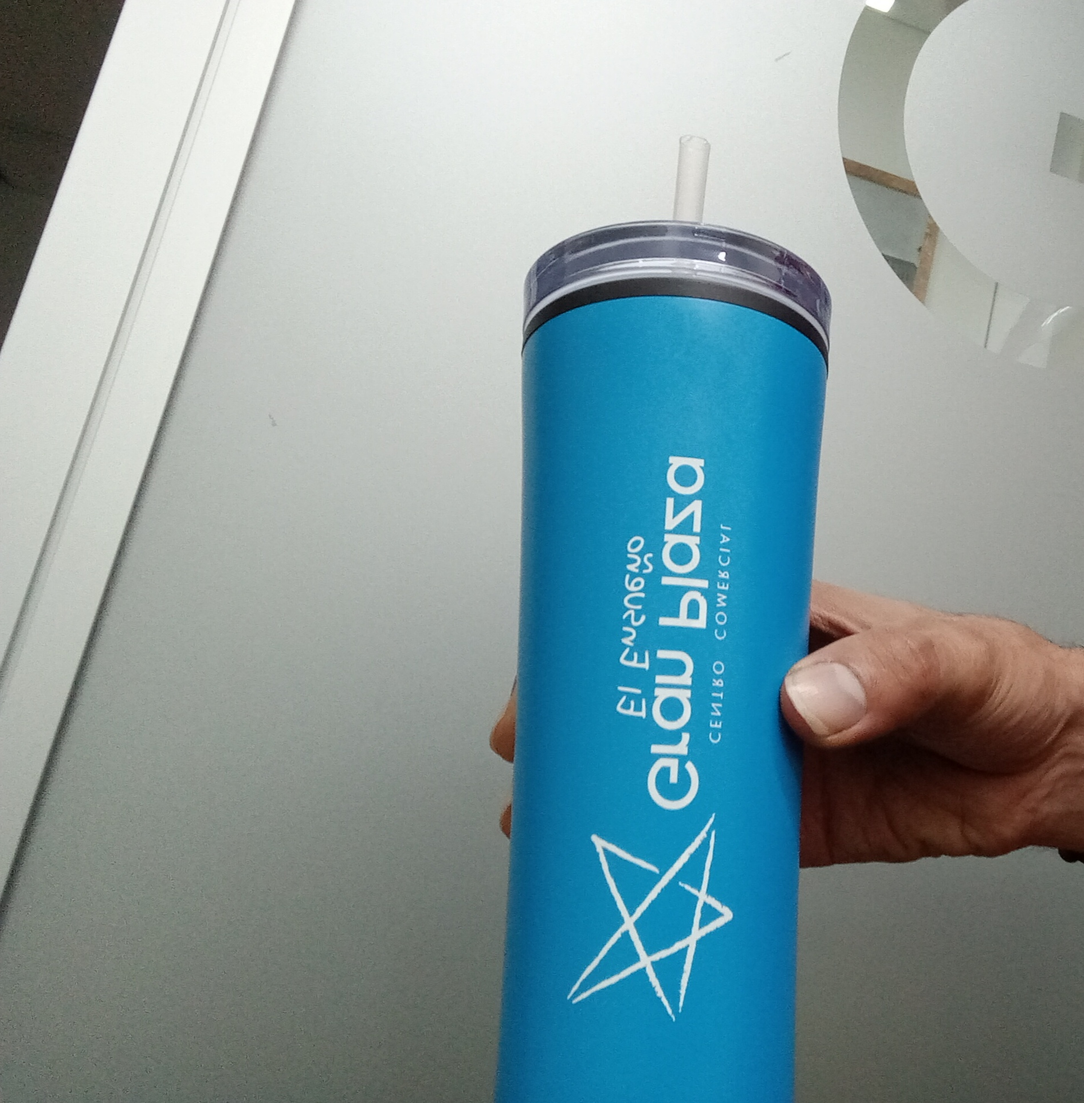Metal: (504, 297, 829, 1103)
